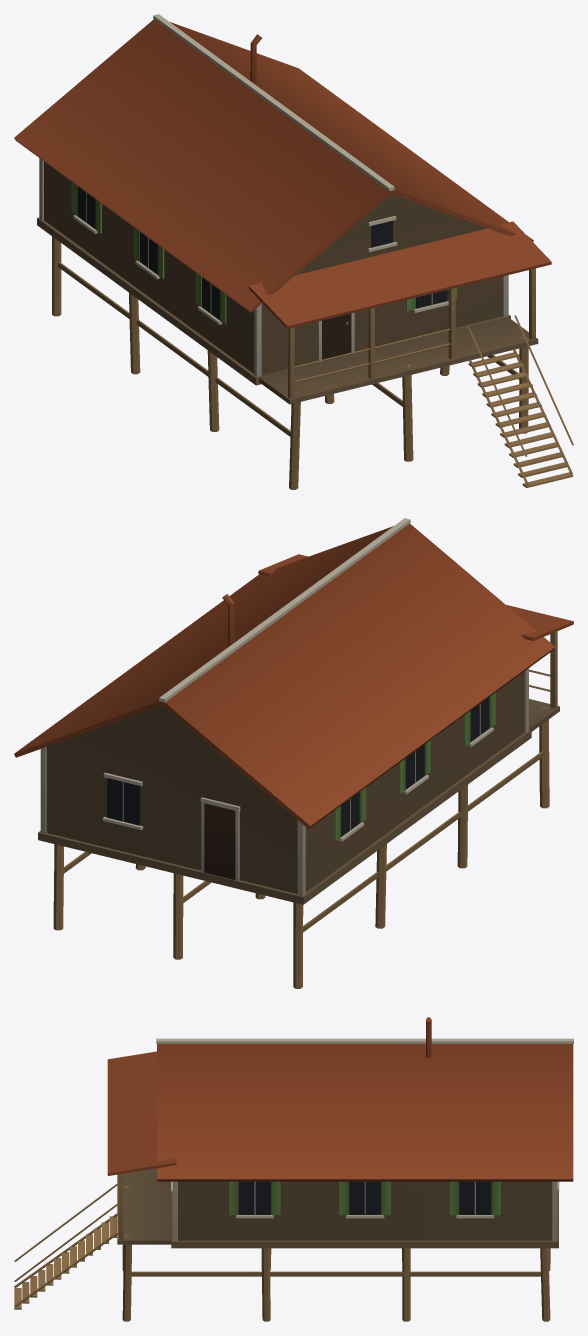
The model's file is shell_bayou_shotgun.glb.
3 views of the same model, one above another, from view 1: azimuth 30°, elevation 25°; view 2: azimuth 150°, elevation 25°; view 3: azimuth 270°, elevation 25° (orthographic). The views are drawn at different scales.
Visible parts, largest first — view 1: shell_bayou_shotgun; view 2: shell_bayou_shotgun; view 3: shell_bayou_shotgun.
Part boxes in pixels (box(x1,y1,x2,y2)): shell_bayou_shotgun: box(14, 14, 573, 489); shell_bayou_shotgun: box(14, 518, 573, 988); shell_bayou_shotgun: box(14, 1017, 573, 1321).
Bounding box in the file's own units: 9.16 × 9.08 × 17.62.
